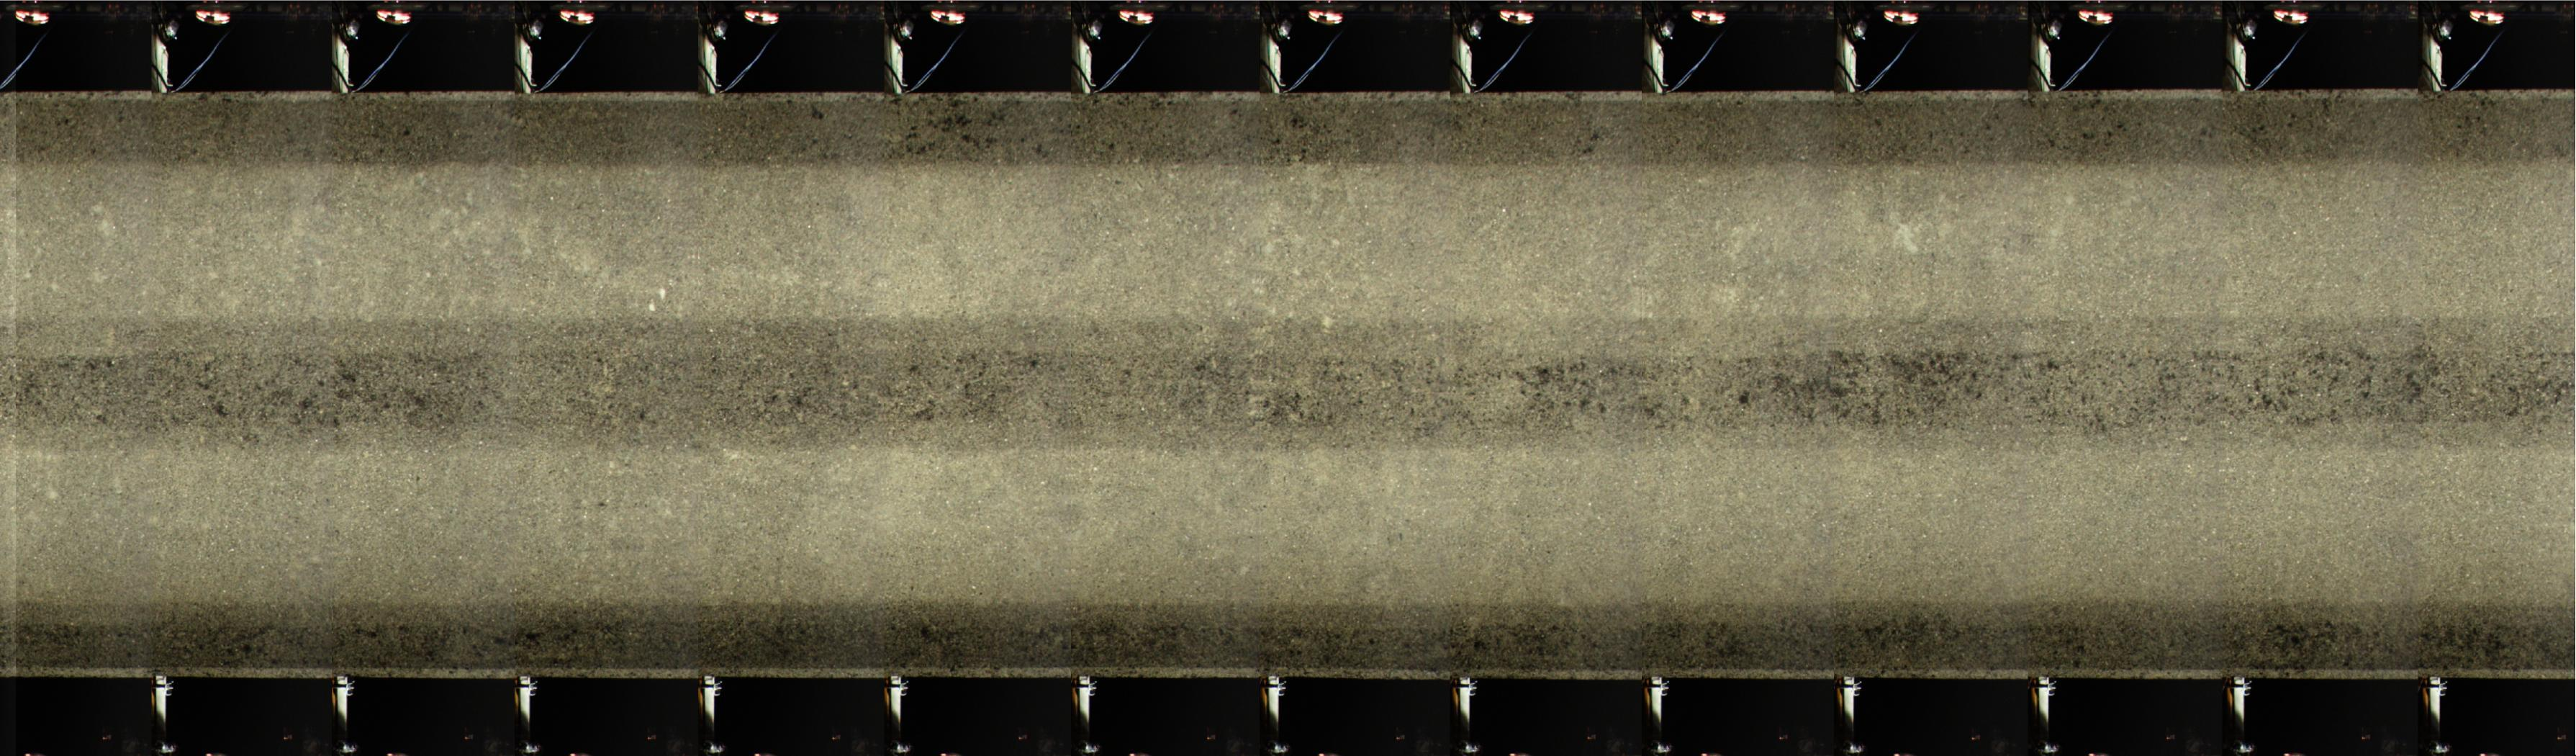concrete: (2, 95, 2563, 680)
